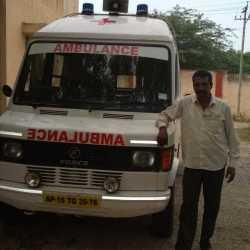Emergency-Vehicles: (0, 0, 194, 248)
